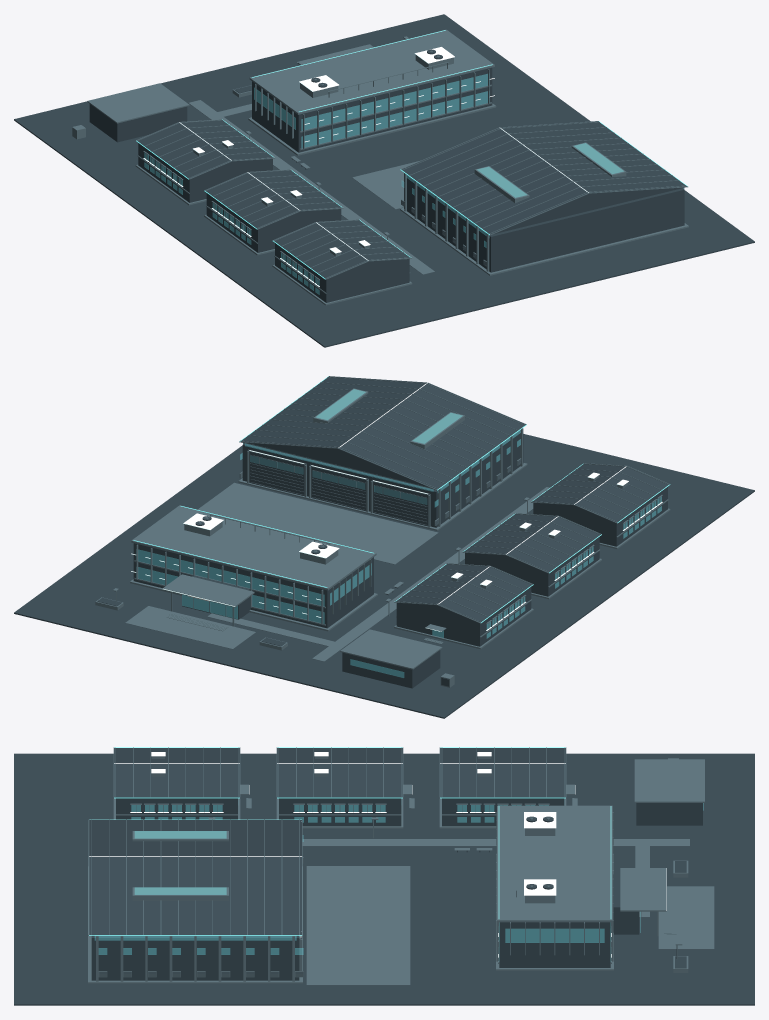
The model's file is military_base.glb.
The picture shows the model from 3 angles, top to bottom: view 1: azimuth 30°, elevation 25°; view 2: azimuth 150°, elevation 25°; view 3: azimuth 270°, elevation 25°; orthographic projection. The views are drawn at different scales.
Parts seen in each view (by area): view 1: military_base_graphite, military_base_graphite_light, military_base_glass, military_base_white, military_base_edge; view 2: military_base_graphite, military_base_graphite_light, military_base_glass, military_base_white, military_base_edge; view 3: military_base_graphite, military_base_graphite_light, military_base_glass, military_base_white, military_base_edge.
Boxes of the visible parts, left/top/right/bottom form: military_base_graphite: left=14, top=14, right=754, bottom=347; military_base_graphite_light: left=72, top=29, right=688, bottom=305; military_base_glass: left=144, top=74, right=683, bottom=294; military_base_white: left=143, top=47, right=588, bottom=286; military_base_edge: left=136, top=30, right=687, bottom=279; military_base_graphite: left=14, top=376, right=754, bottom=718; military_base_graphite_light: left=95, top=376, right=670, bottom=687; military_base_glass: left=138, top=389, right=661, bottom=677; military_base_white: left=131, top=382, right=662, bottom=631; military_base_edge: left=133, top=376, right=670, bottom=622; military_base_graphite: left=14, top=748, right=754, bottom=1005; military_base_graphite_light: left=88, top=747, right=714, bottom=985; military_base_glass: left=95, top=803, right=703, bottom=954; military_base_white: left=89, top=752, right=666, bottom=957; military_base_edge: left=89, top=747, right=611, bottom=935.
Bounding box in the file's own units: 160 × 21.23 × 200.
